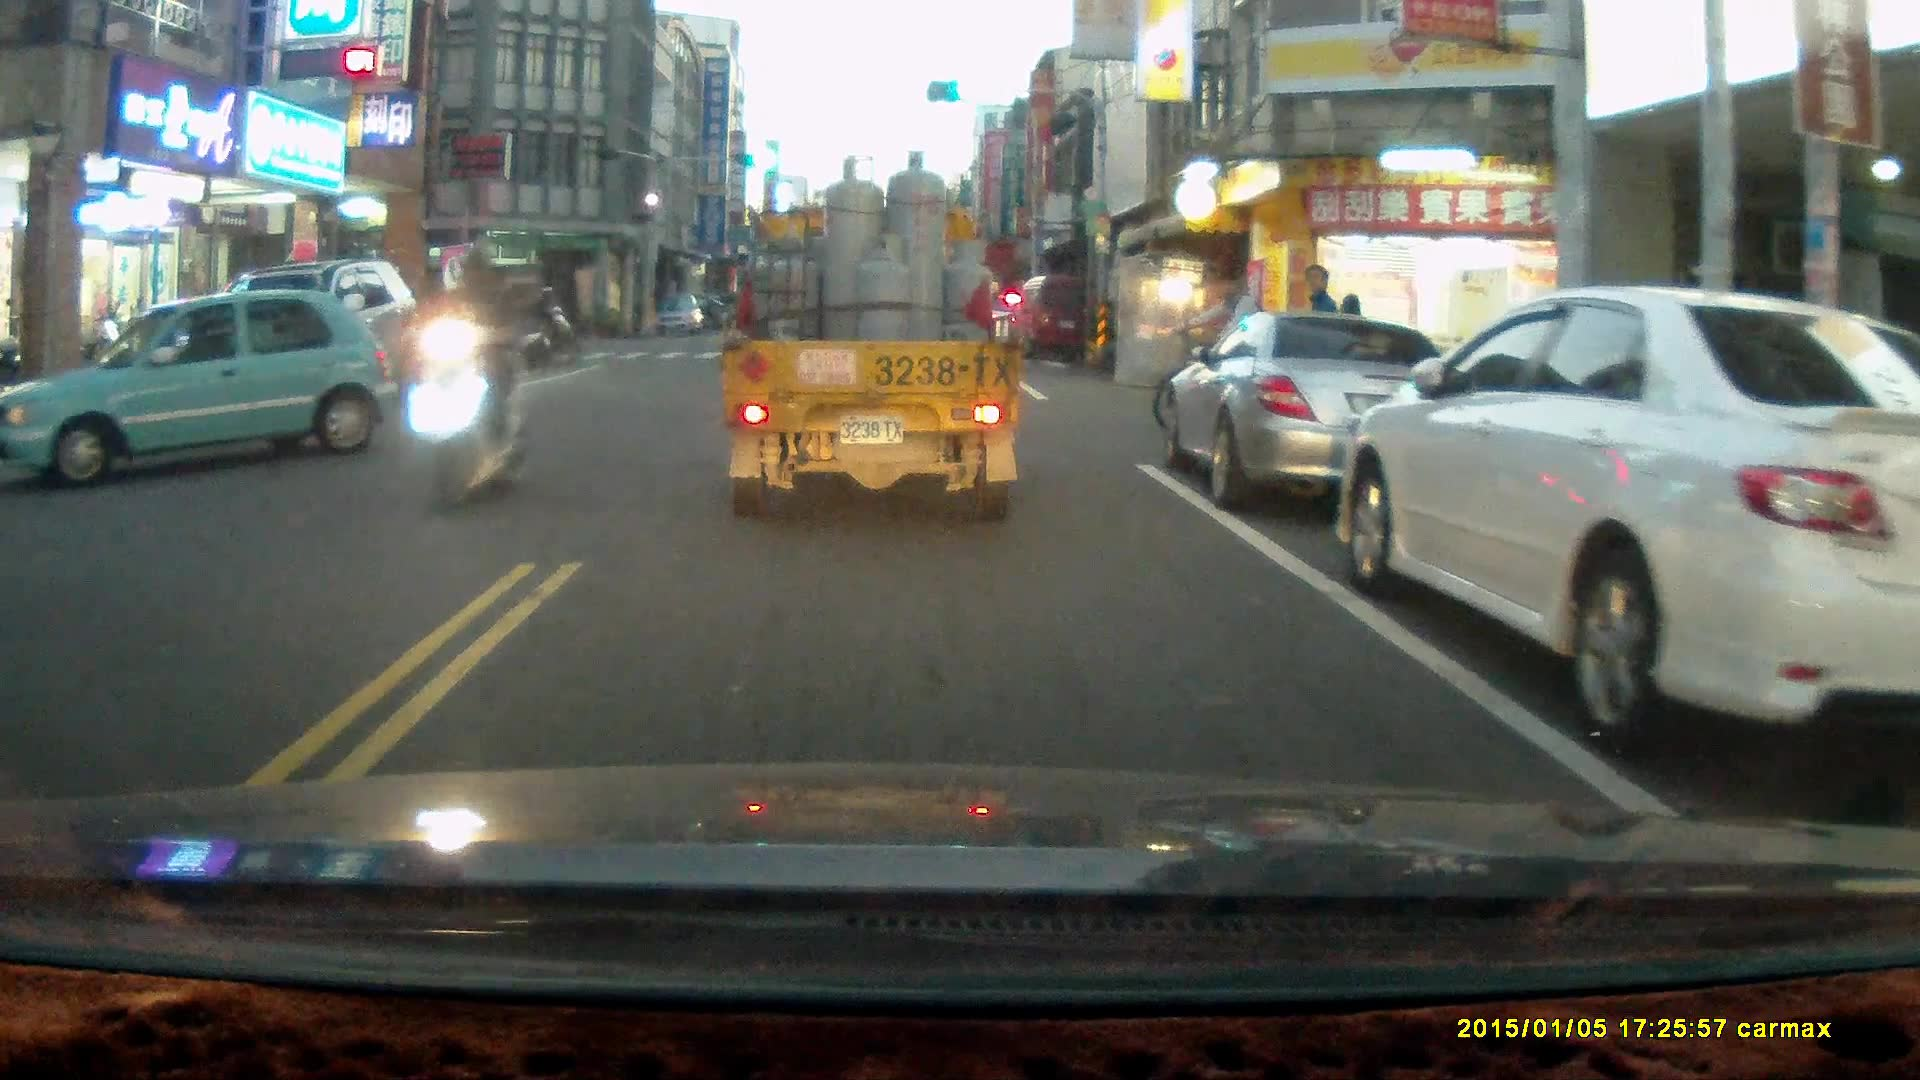rider: (409, 244, 531, 518), (1152, 272, 1312, 449)
vehicle: (1342, 282, 1920, 759), (723, 151, 1021, 523), (1, 287, 379, 490), (1155, 309, 1476, 508), (1014, 270, 1114, 361), (652, 293, 707, 340)
